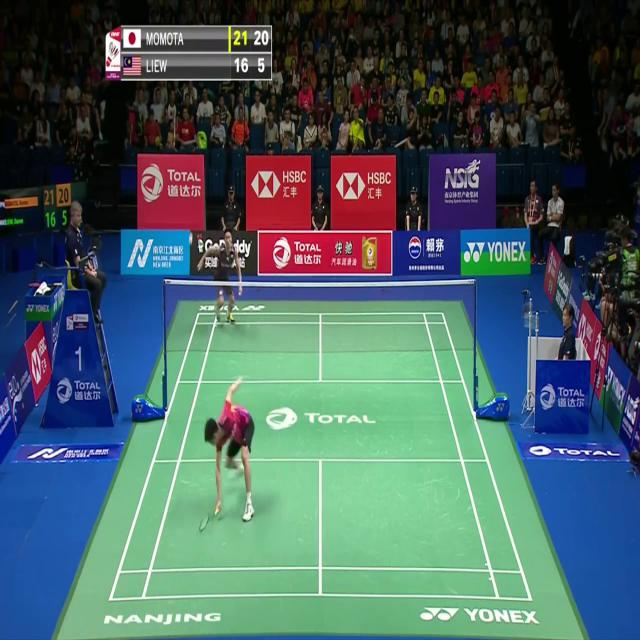Shuttlecock: (187, 232, 194, 243)
